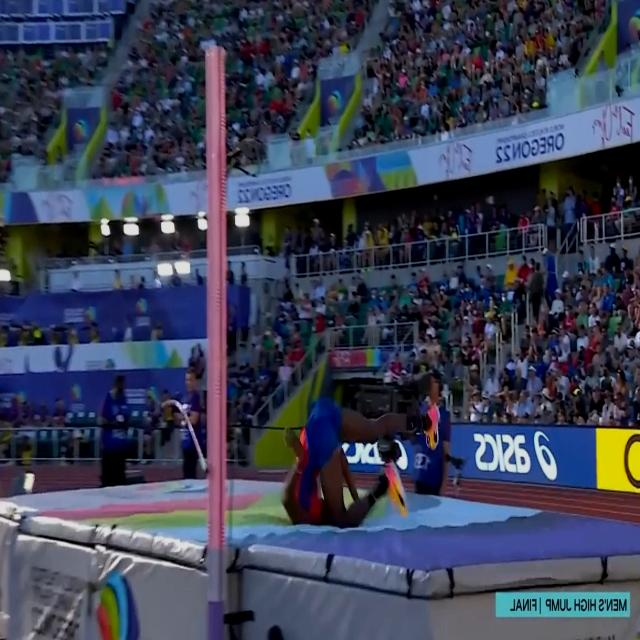land: (284, 391, 439, 527)
